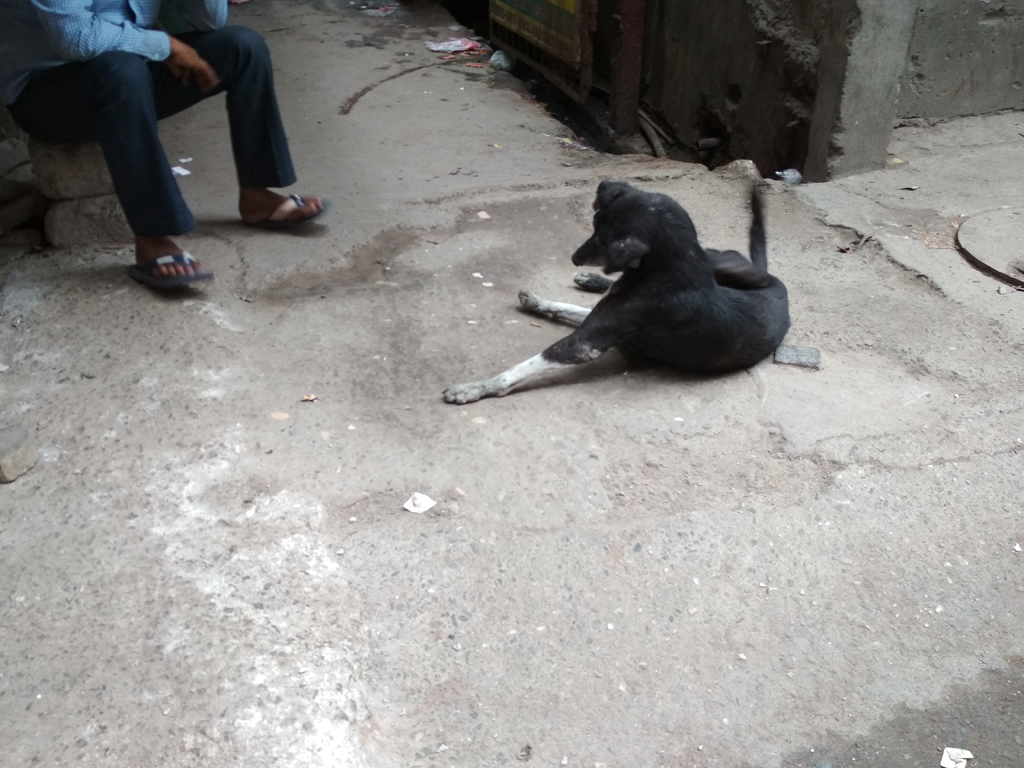dog: (442, 176, 791, 407)
